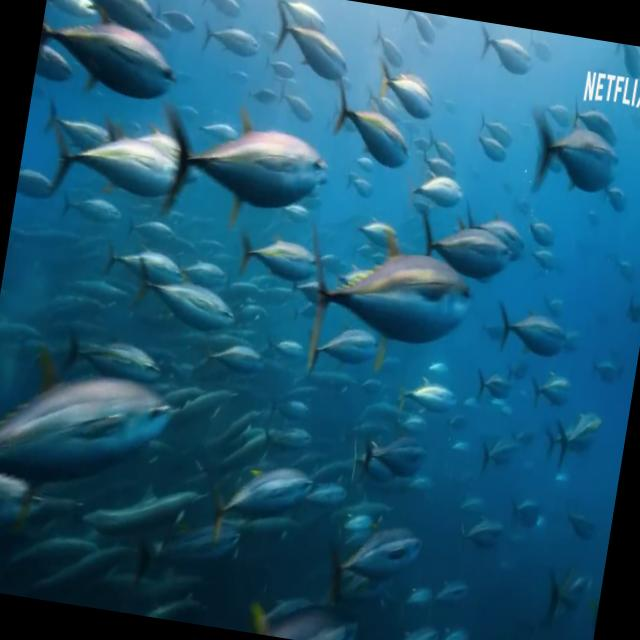fish: (276, 218, 482, 382), (0, 324, 186, 503), (142, 85, 334, 242), (32, 84, 200, 220), (32, 0, 190, 111), (37, 0, 218, 88), (203, 458, 348, 562), (513, 116, 630, 228), (318, 68, 440, 174), (406, 200, 534, 300), (120, 250, 247, 343), (324, 507, 434, 592), (264, 6, 361, 100), (544, 392, 628, 500), (356, 410, 451, 493), (363, 46, 449, 134), (488, 298, 584, 374), (96, 217, 192, 285), (456, 322, 522, 418), (530, 552, 600, 638), (0, 457, 63, 546), (469, 404, 530, 482), (472, 22, 545, 86)
